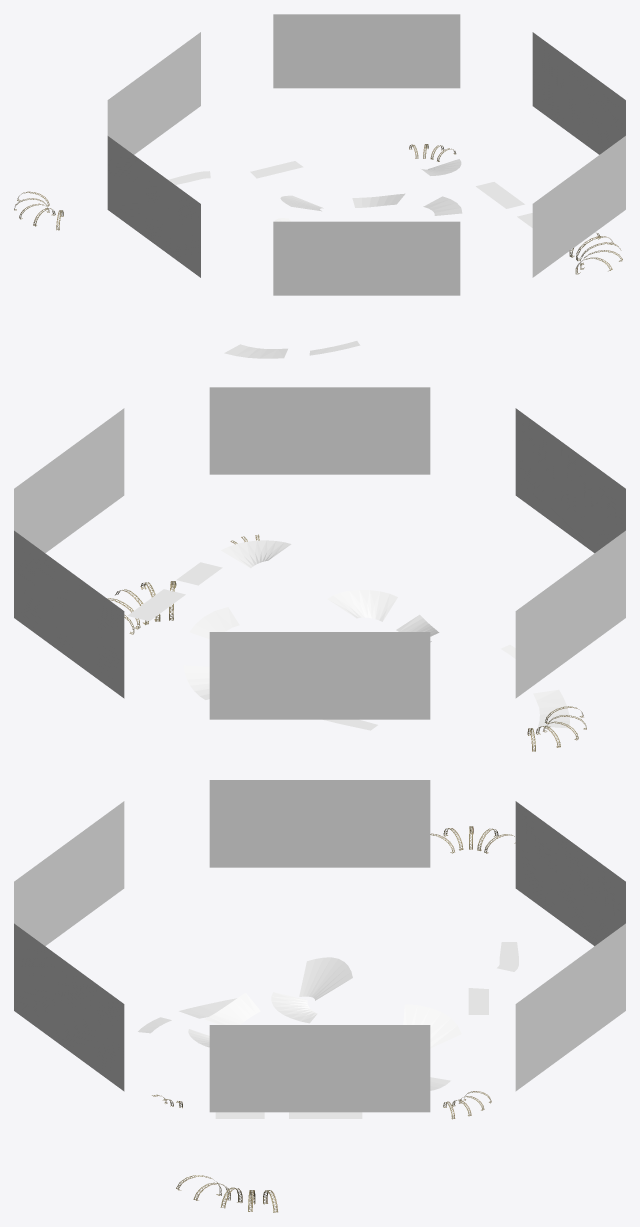
Rendered from Transparent.obj.
The picture shows the model from 3 angles, top to bottom: view 1: azimuth 30°, elevation 25°; view 2: azimuth 150°, elevation 25°; view 3: azimuth 270°, elevation 25°; orthographic projection. The views are drawn at different scales.
Size of the model in its own units: 3388 by 1082 by 3043.
2 materials, 2 textured.
